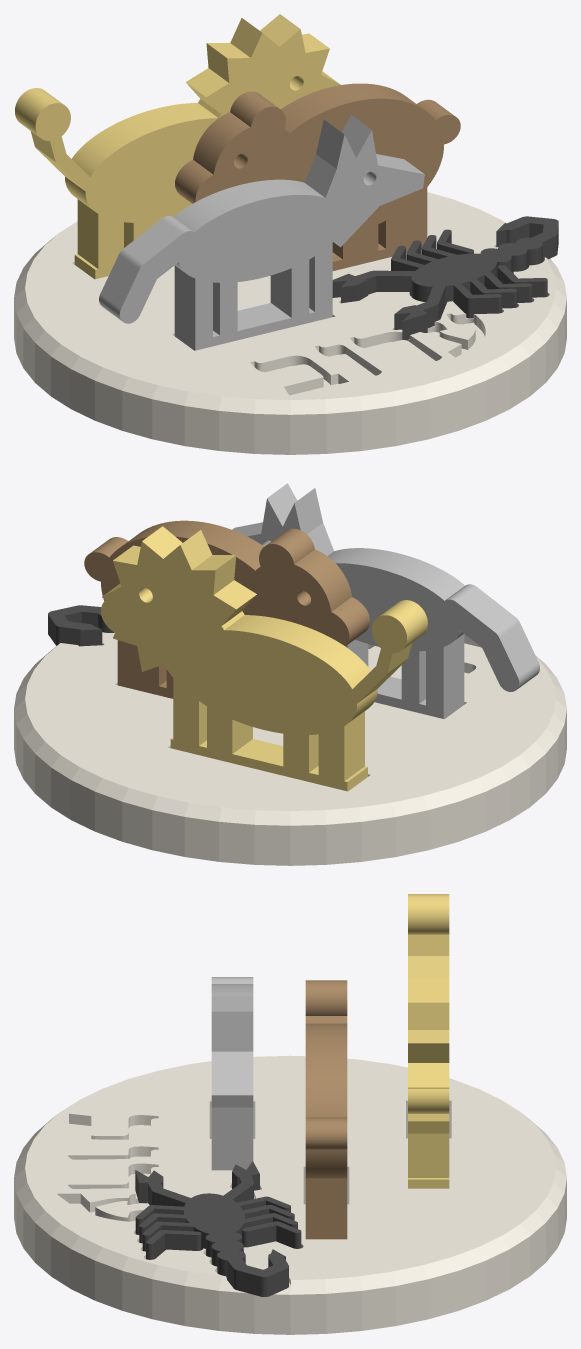
File: wild-beasts.glb
3 views of the same model, one above another, from view 1: azimuth 30°, elevation 25°; view 2: azimuth 150°, elevation 25°; view 3: azimuth 270°, elevation 25° (orthographic).
Parts seen in each view (by area): view 1: stage, wolf, lion, bear, scorpion; view 2: stage, lion, wolf, bear, scorpion; view 3: stage, scorpion, lion, bear, wolf.
Boxes of the visible parts, left/top/right/bottom form: stage: left=14, top=192, right=566, bottom=454; wolf: left=99, top=115, right=424, bottom=350; lion: left=15, top=14, right=340, bottom=279; bear: left=175, top=83, right=460, bottom=270; scorpion: left=332, top=216, right=558, bottom=340; stage: left=14, top=632, right=566, bottom=865; lion: left=101, top=526, right=427, bottom=791; wolf: left=232, top=483, right=539, bottom=719; bear: left=84, top=520, right=369, bottom=698; scorpion: left=48, top=605, right=114, bottom=646; stage: left=14, top=1055, right=566, bottom=1334; scorpion: left=135, top=1161, right=301, bottom=1296; lion: left=408, top=894, right=449, bottom=1188; bear: left=305, top=980, right=347, bottom=1239; wolf: left=211, top=977, right=253, bottom=1170.
Bounding box in the file's own units: 41.25 × 20.34 × 40.
